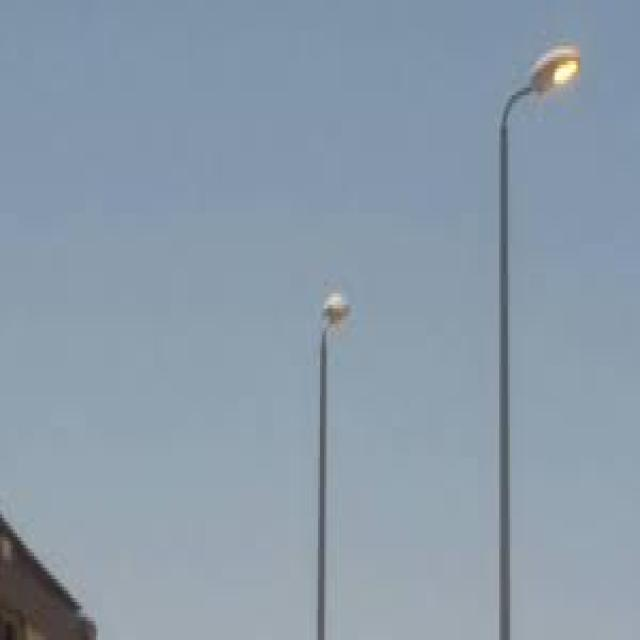Street Light: (497, 45, 580, 640), (311, 293, 350, 640)
